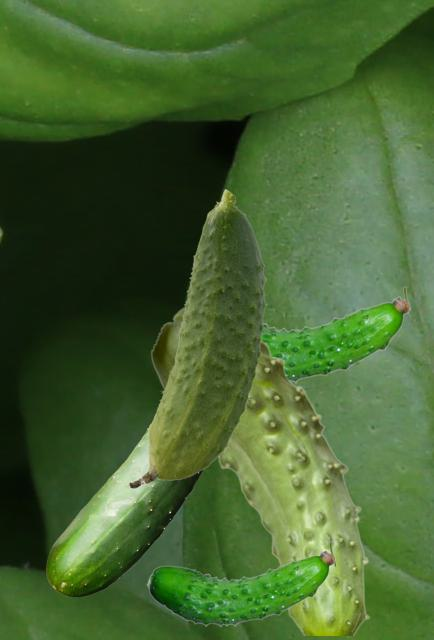cucumber: (150, 306, 369, 634), (129, 189, 266, 487), (46, 424, 204, 596), (146, 541, 334, 626), (262, 286, 409, 383)
